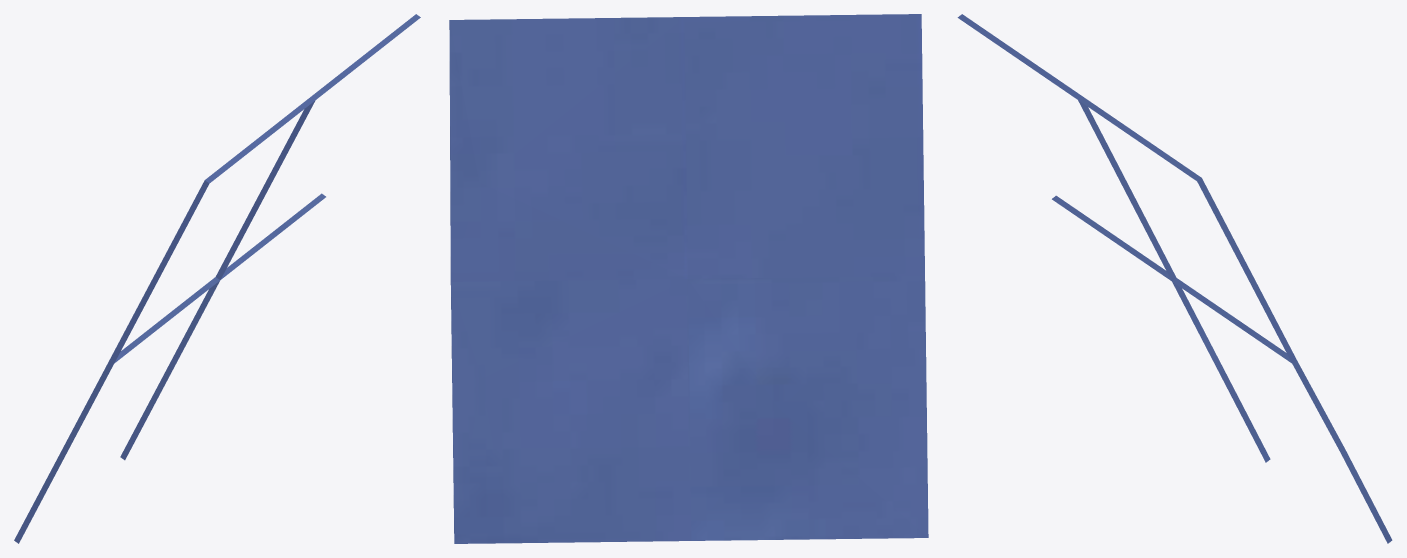
The picture shows the model from 3 angles, left to right: view 1: azimuth 30°, elevation 25°; view 2: azimuth 150°, elevation 25°; view 3: azimuth 270°, elevation 25°; orthographic projection. The views are drawn at different scales.
Bounding box in the file's own units: 19650 × 17737 × 16869.
Materials: 1 (1 with a texture image).
